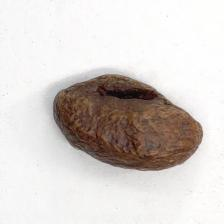NG: (84, 73, 171, 110)
